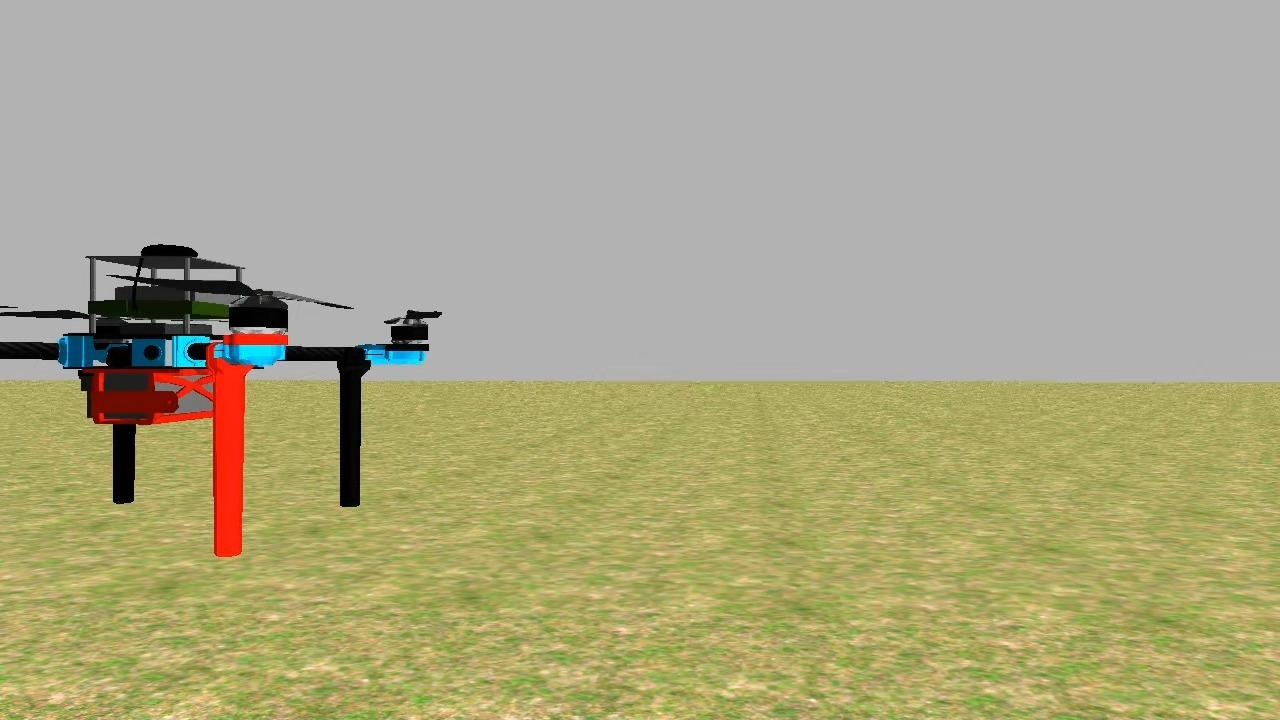UAV: (1, 234, 446, 574)
